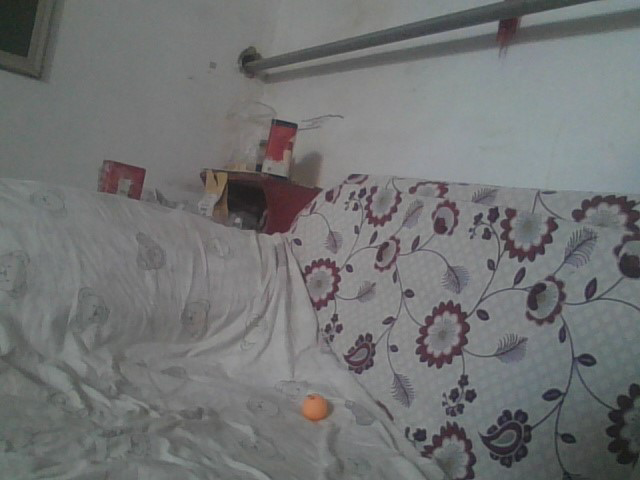ball: (303, 395, 330, 422)
